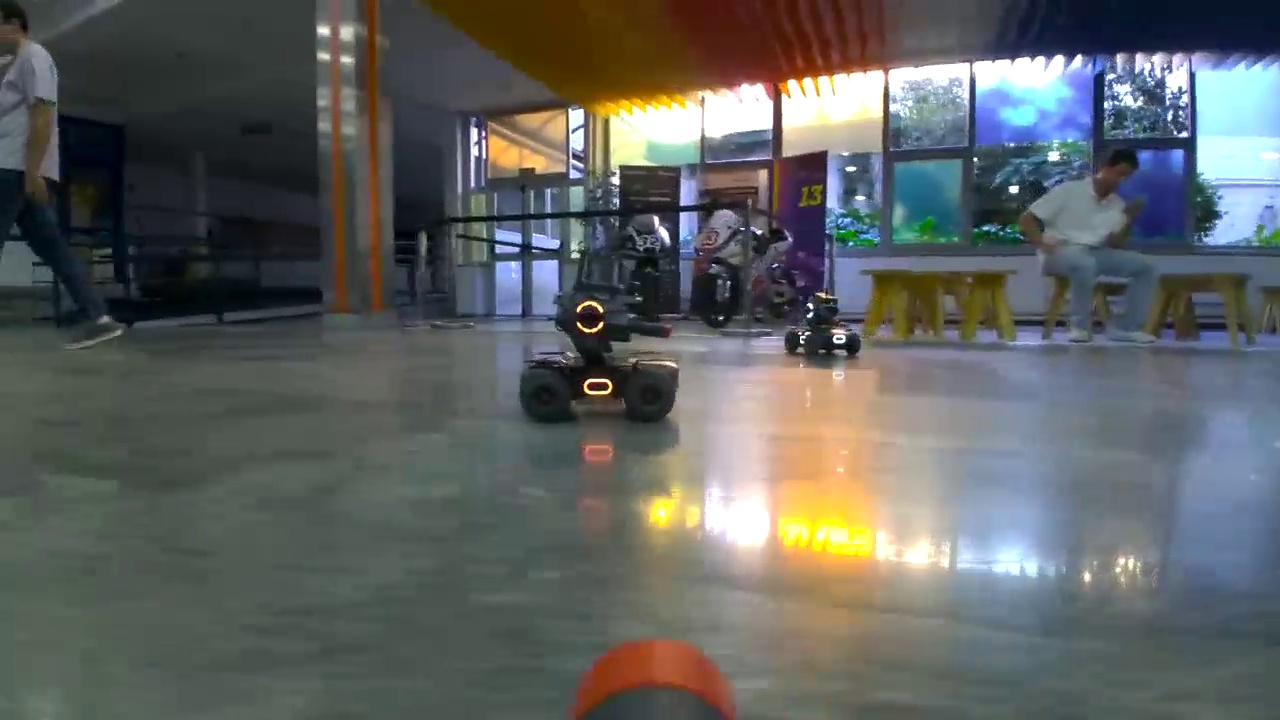robot: (518, 295, 680, 420), (783, 292, 862, 355)
